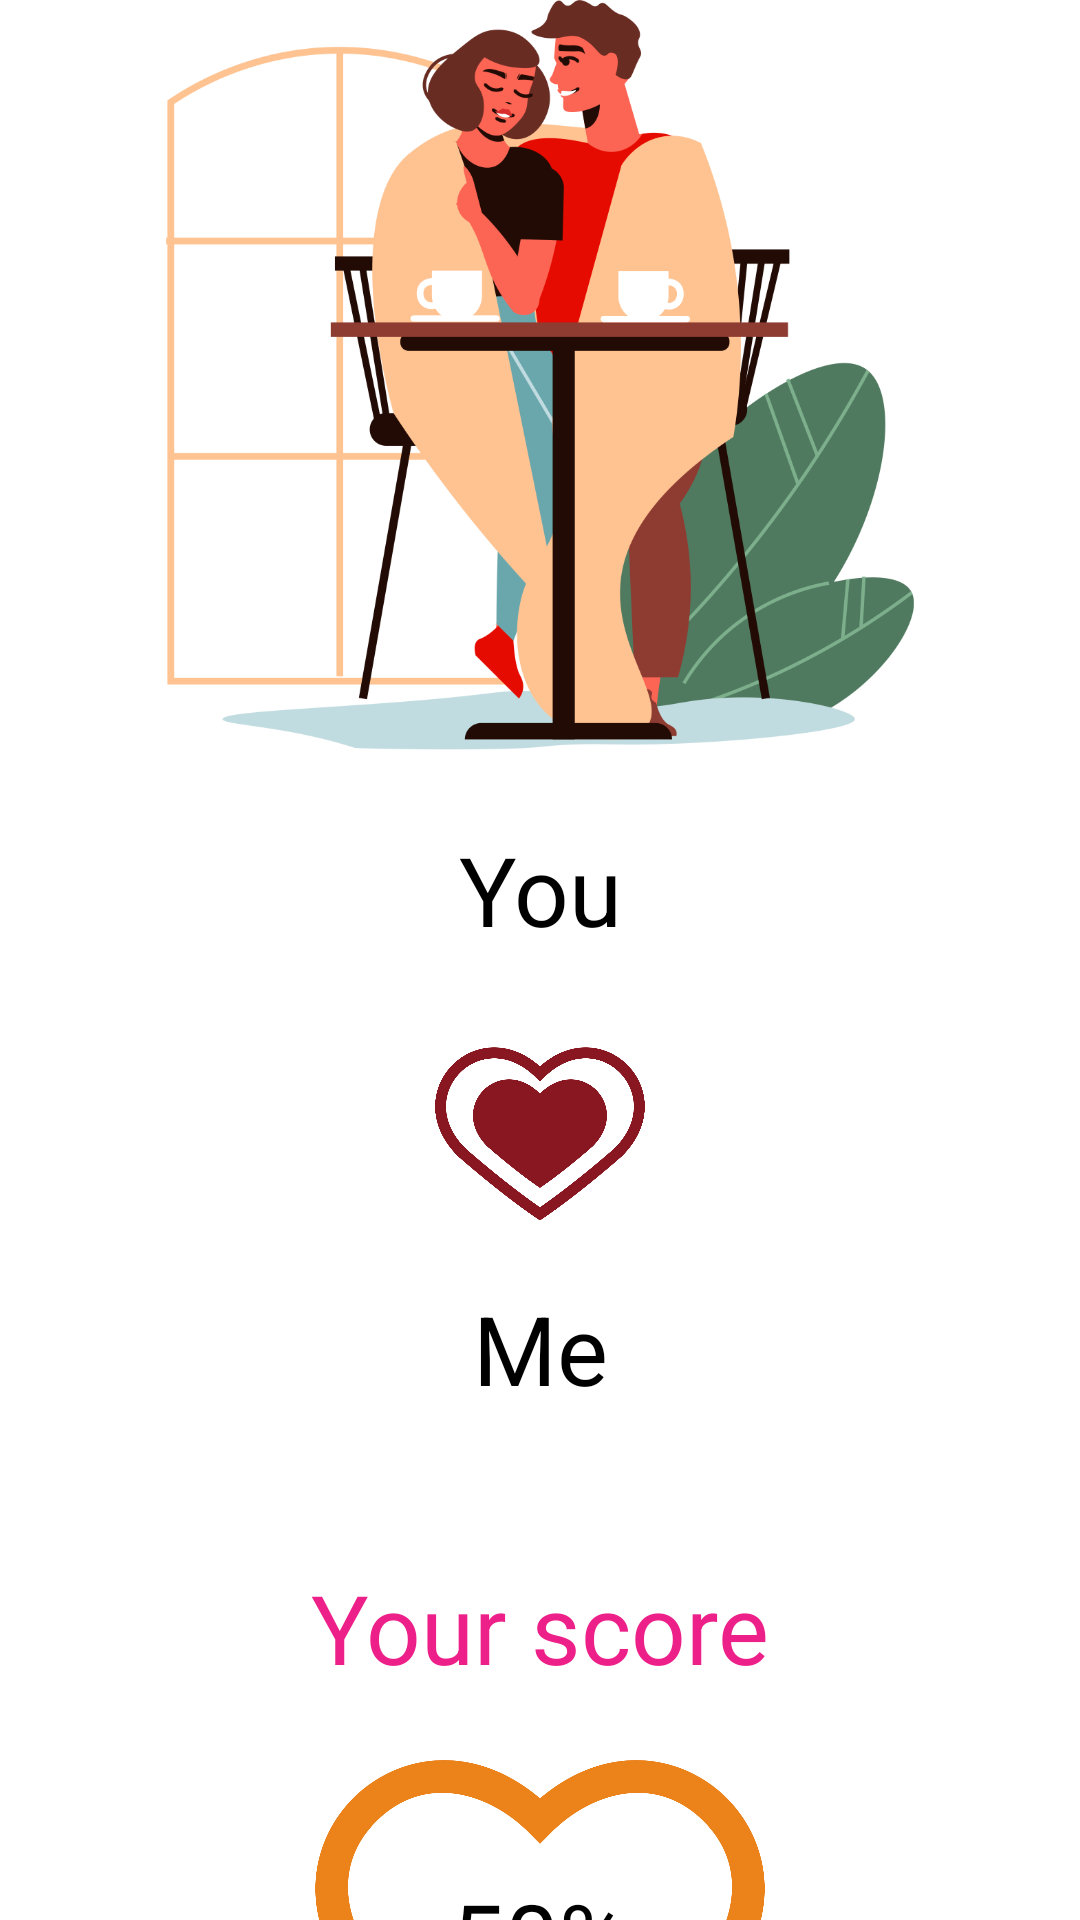

Locate icon controls on the screen. Image size 1080 x 1920, boxes as (left=x1, top=y1, right=x2, bottom=y2).
mini love: (left=435, top=1047, right=645, bottom=1220)
